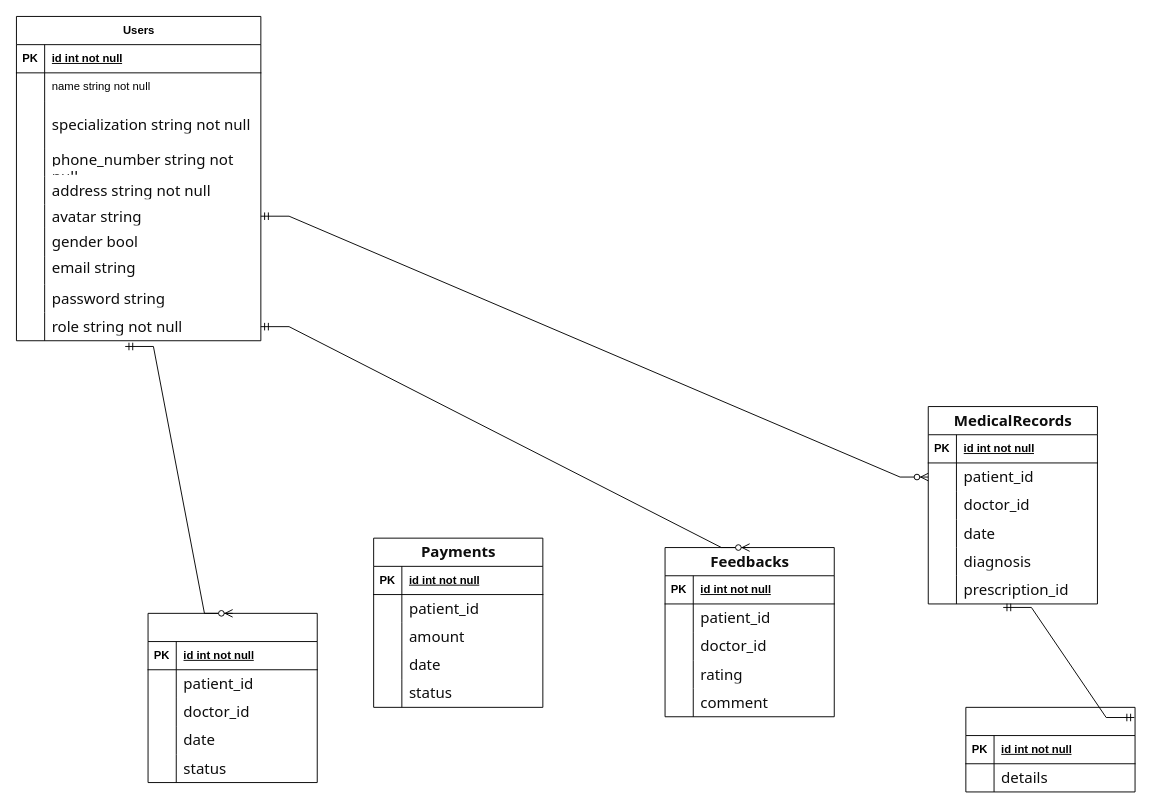
Some shapes in this 1160 by 808 pixel diagram are drawn without their labels. The shapes that lost their labels are listed below. From the top down, each one's box as (x1, y1, x2, y2) in pixels, then its label:
(147, 612, 317, 783): Appointments
(965, 706, 1135, 792): Prescriptions
